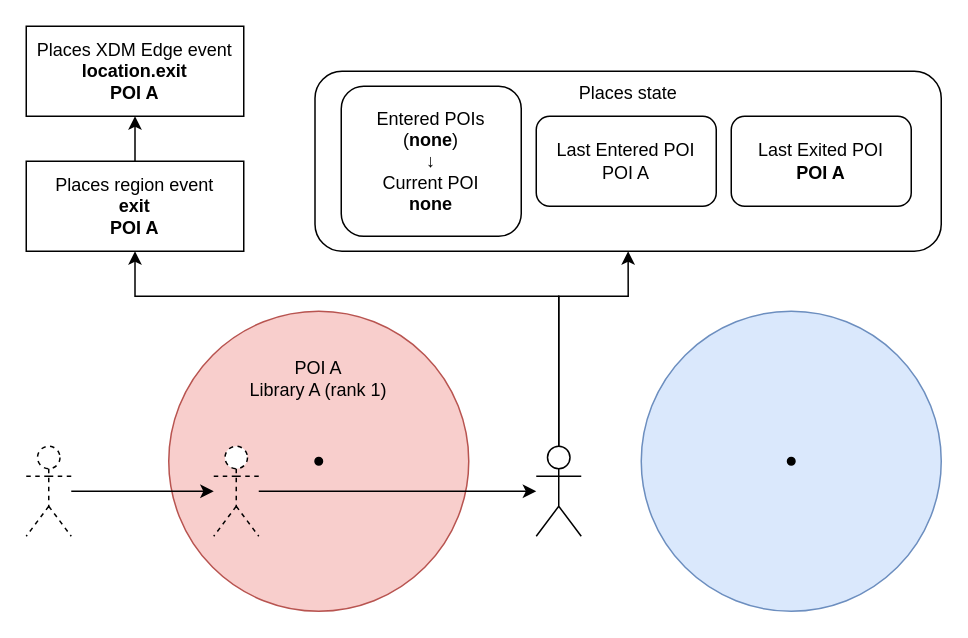
Some shapes in this 968 by 638 pixel diagram are drawn without their labels. Each missing label, with the centre of its shape:
"POI B Library B (rank 2)" goes at (x=790, y=460).
"User" goes at (x=558, y=490).
